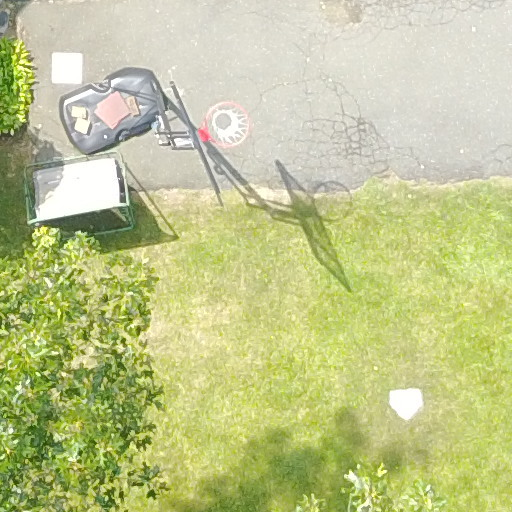basketball: (27, 33, 343, 240)
